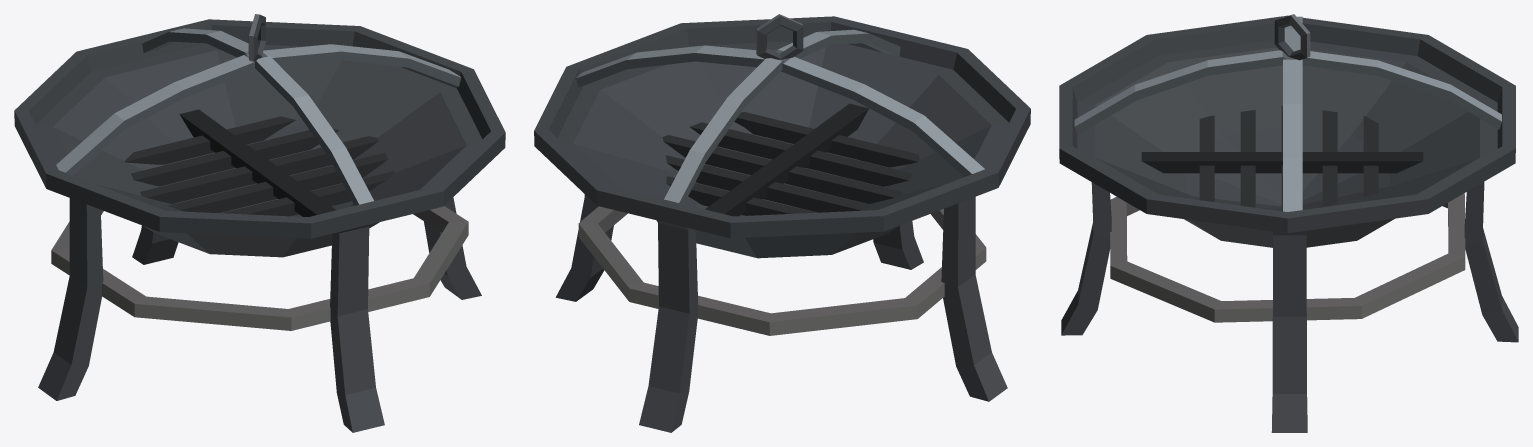
Rendered from SM_Prop_Brazier_01.fbx.
3 views of the same model, side by side, from view 1: azimuth 30°, elevation 25°; view 2: azimuth 150°, elevation 25°; view 3: azimuth 270°, elevation 25° (orthographic). The views are drawn at different scales.
Parts seen in each view (by area): view 1: SM_Prop_Brazier_01; view 2: SM_Prop_Brazier_01; view 3: SM_Prop_Brazier_01.
Boxes of the visible parts, x1=… form: SM_Prop_Brazier_01: x1=14, y1=14, x2=505, y2=432; SM_Prop_Brazier_01: x1=534, y1=14, x2=1030, y2=432; SM_Prop_Brazier_01: x1=1059, y1=14, x2=1518, y2=432.
Bounding box in the file's own units: 79.02 × 57.51 × 75.58.
